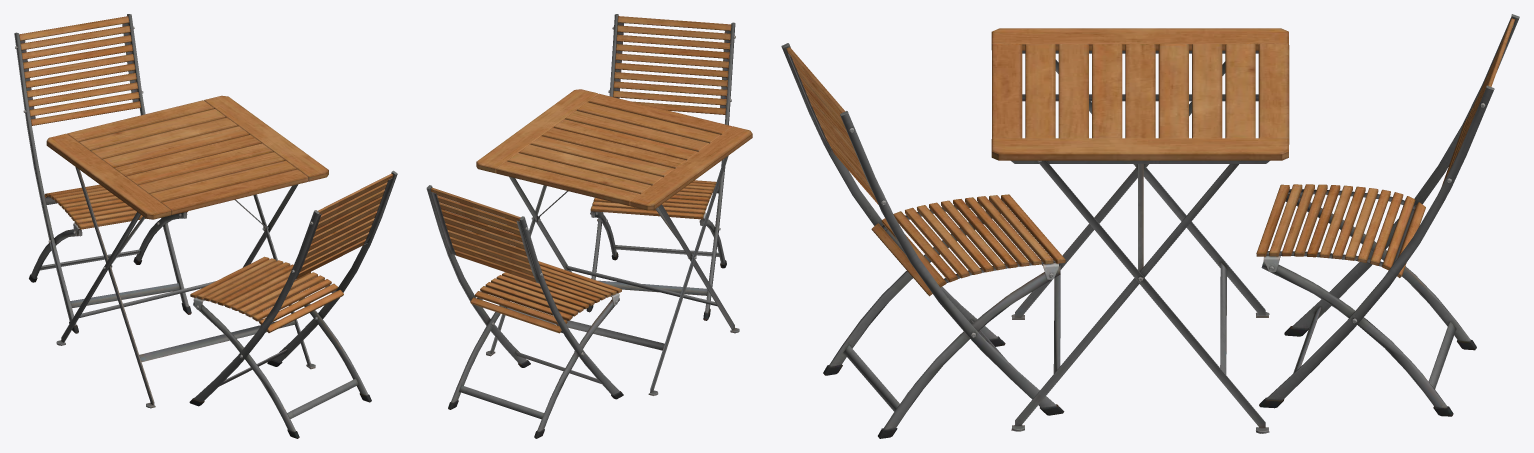
Rendered from patio-set-1473d1faa1a1.glb.
The picture shows the model from 3 angles, left to right: view 1: azimuth 30°, elevation 25°; view 2: azimuth 150°, elevation 25°; view 3: azimuth 270°, elevation 25°; orthographic projection. The views are drawn at different scales.
Parts seen in each view (by area): view 1: ph_park_patio_table_chairs_set_part_0, ph_park_patio_table_chairs_set_part_2; view 2: ph_park_patio_table_chairs_set_part_0, ph_park_patio_table_chairs_set_part_2; view 3: ph_park_patio_table_chairs_set_part_2, ph_park_patio_table_chairs_set_part_0.
Boxes of the visible parts, x1,y1,x2,y2 form: ph_park_patio_table_chairs_set_part_0: (14,14,397,438); ph_park_patio_table_chairs_set_part_2: (46,95,328,408); ph_park_patio_table_chairs_set_part_0: (426,14,735,438); ph_park_patio_table_chairs_set_part_2: (476,89,752,395); ph_park_patio_table_chairs_set_part_2: (991,28,1289,433); ph_park_patio_table_chairs_set_part_0: (781,14,1519,438).
Size of the model in its own units: 0.742 by 0.8581 by 1.72.
Materials: 2 (2 with a texture image).
